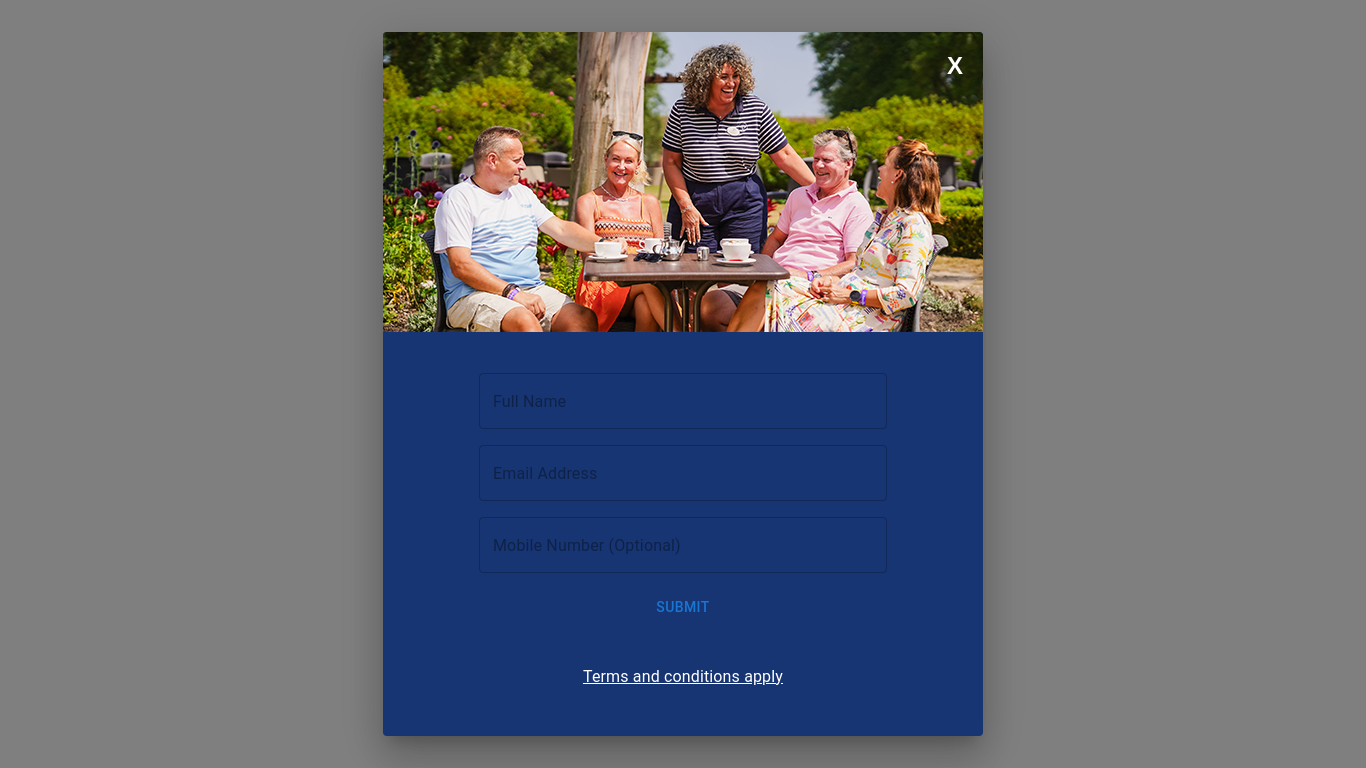
SaveOnNextBreakModal › submits the form successfully
(page scrolled)
Type "John Smith" into the field with placeholder "Full Name" at (683, 401), box [479,373,887,429]
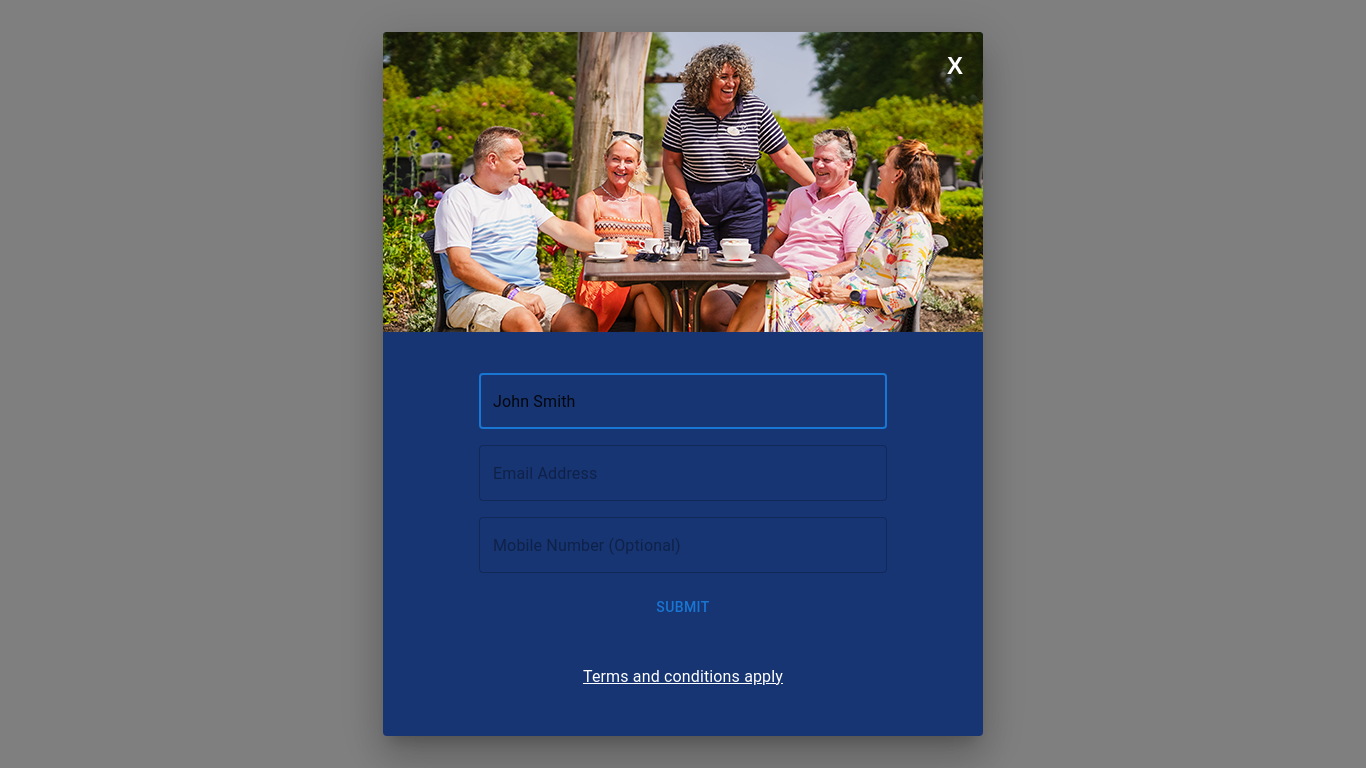
Type "john@test.com" into the field with placeholder "Email Address" at (683, 473), box [479,445,887,501]
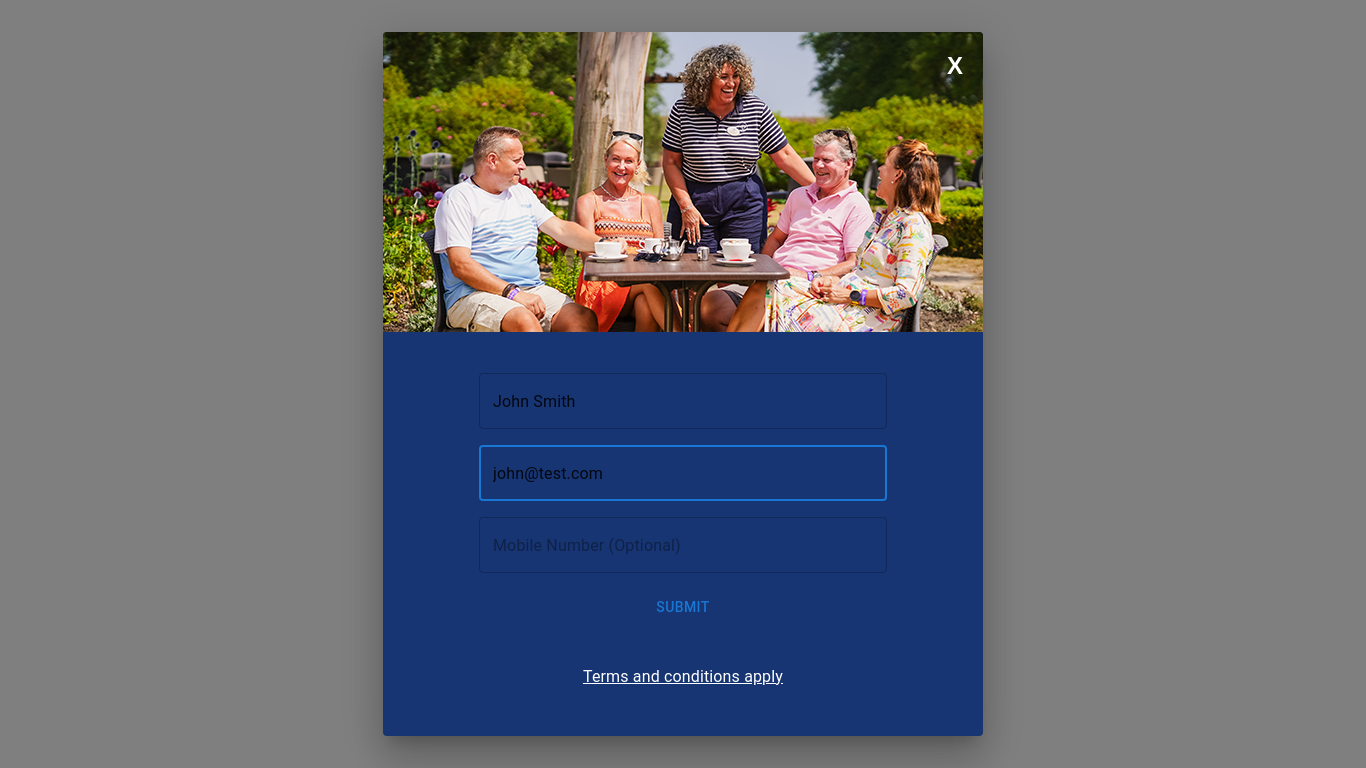
Click the button "Submit" at (683, 607), box [479,589,887,626]
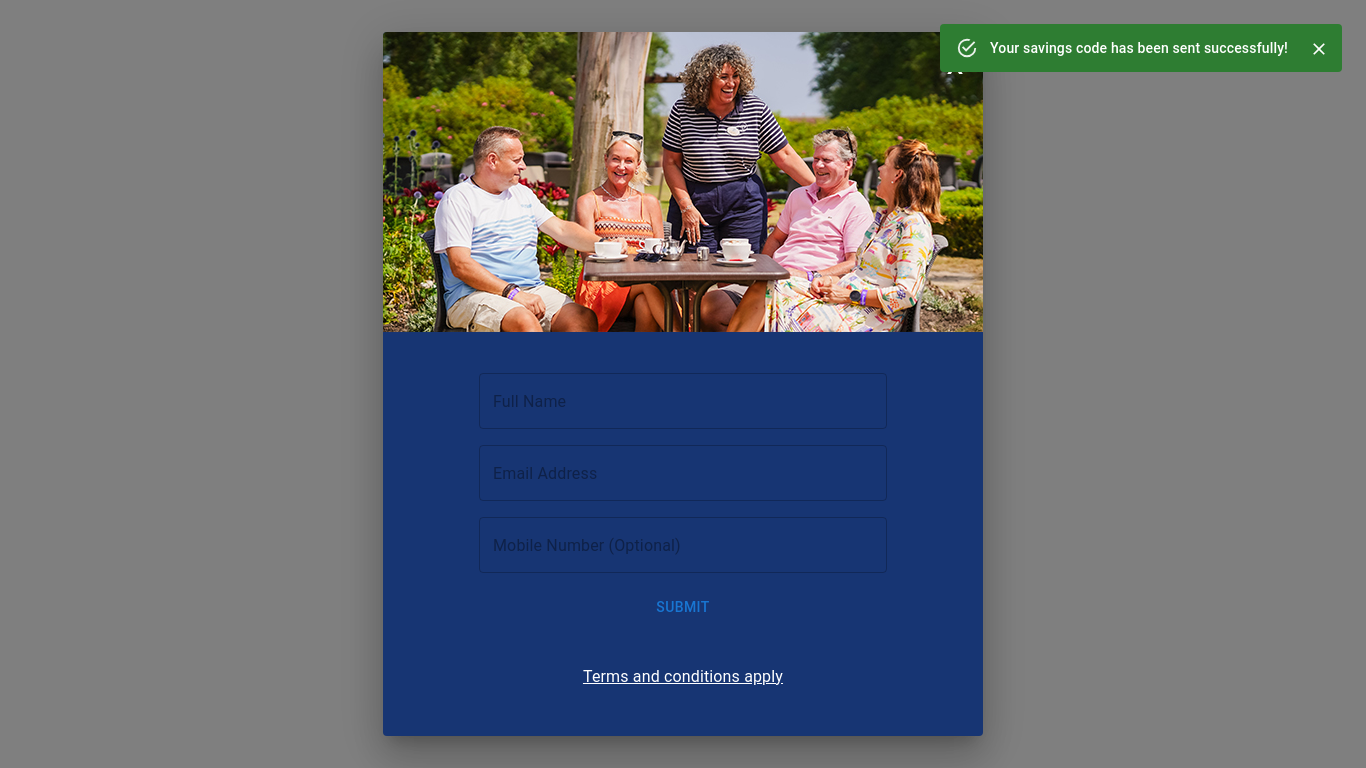
Check: the text "Your savings code has been sent successfully!" is shown, box [990,40,1288,56]
